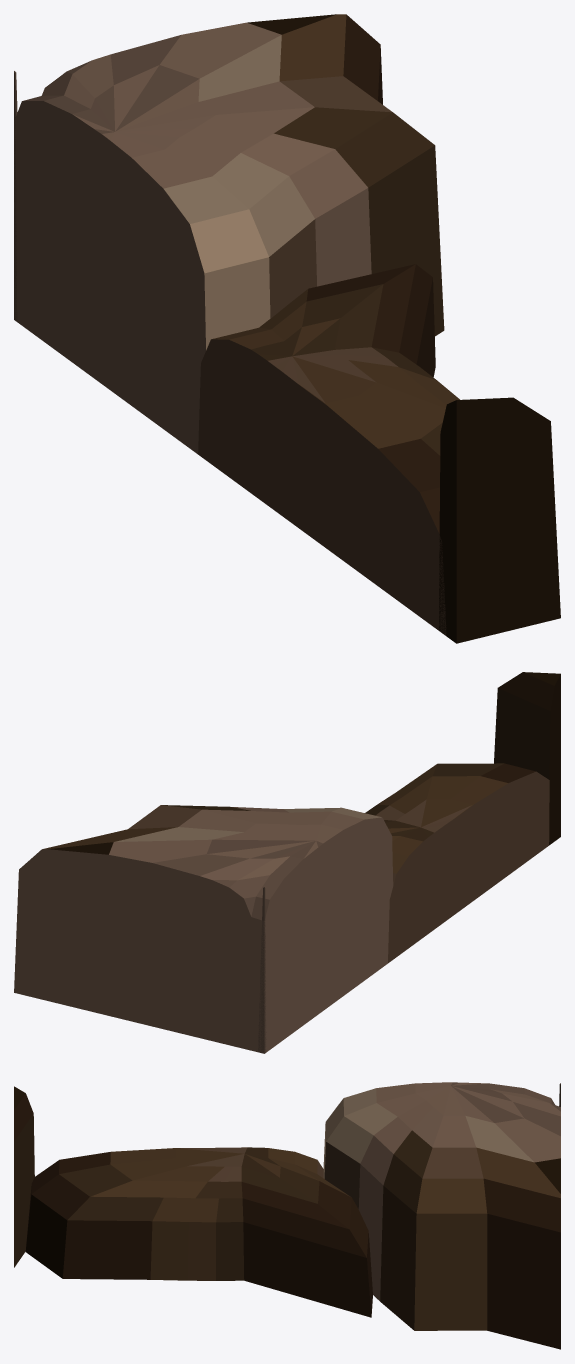
Rendered from newshr-233.glb.
3 renders of one model, top to bottom at view 1: azimuth 30°, elevation 25°; view 2: azimuth 150°, elevation 25°; view 3: azimuth 270°, elevation 25°, orthographic. The views are drawn at different scales.
Parts seen in each view (by area): view 1: newshr-233; view 2: newshr-233; view 3: newshr-233.
Boxes of the visible parts, x1,y1,x2,y2 form: newshr-233: (14, 14, 560, 643); newshr-233: (14, 672, 560, 1053); newshr-233: (14, 1082, 560, 1349).
Bounding box in the file's own units: 1.14 × 0.7278 × 2.33.
